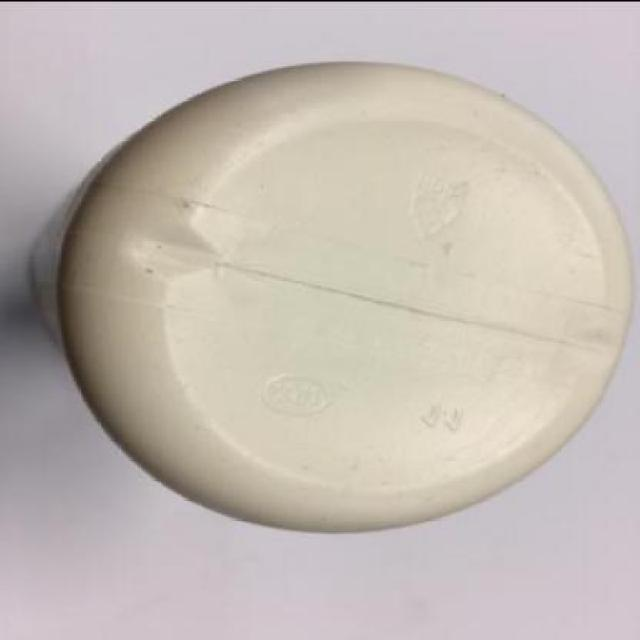PLASTIC: (32, 62, 633, 535)
